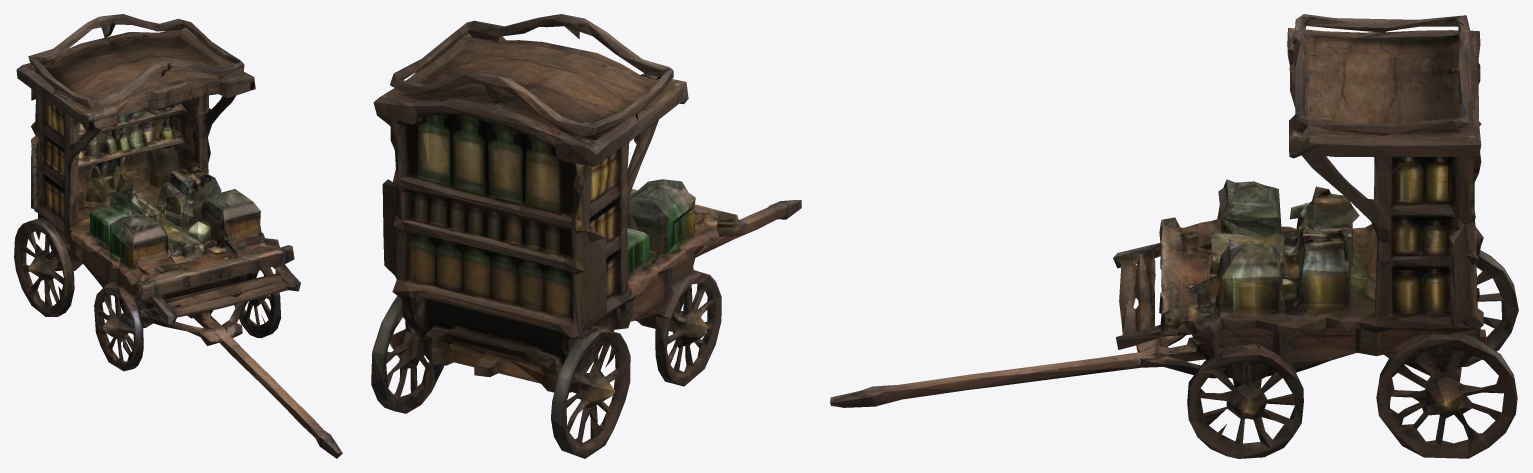
Rendered from cart_apothecary_lod0.glb.
3 renders of one model, left to right at view 1: azimuth 30°, elevation 25°; view 2: azimuth 150°, elevation 25°; view 3: azimuth 270°, elevation 25°, orthographic. The views are drawn at different scales.
Visible parts, largest first — view 1: cart_apothecary_lod0; view 2: cart_apothecary_lod0; view 3: cart_apothecary_lod0.
Boxes of the visible parts, left/top/right/bottom form: cart_apothecary_lod0: left=14, top=14, right=342, bottom=458; cart_apothecary_lod0: left=371, top=14, right=801, bottom=458; cart_apothecary_lod0: left=830, top=14, right=1518, bottom=458.
Size of the model in its own units: 1.19 by 1.8 by 2.99.
Materials: 1 (1 with a texture image).
